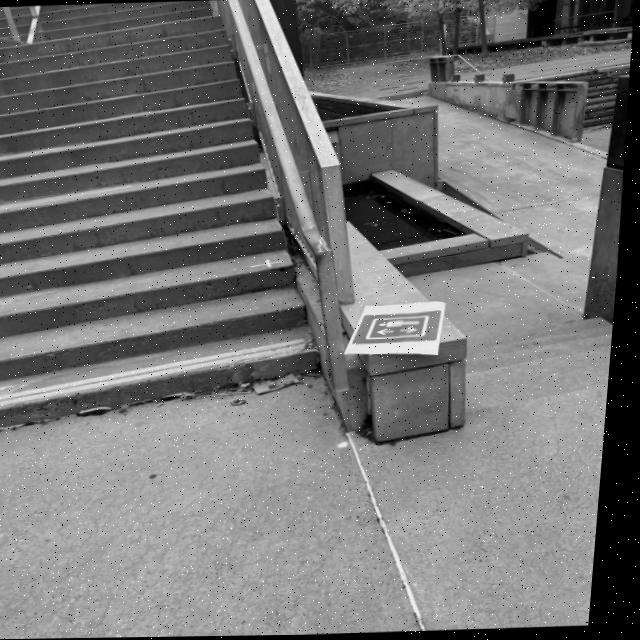elevator: (354, 310, 441, 341)
